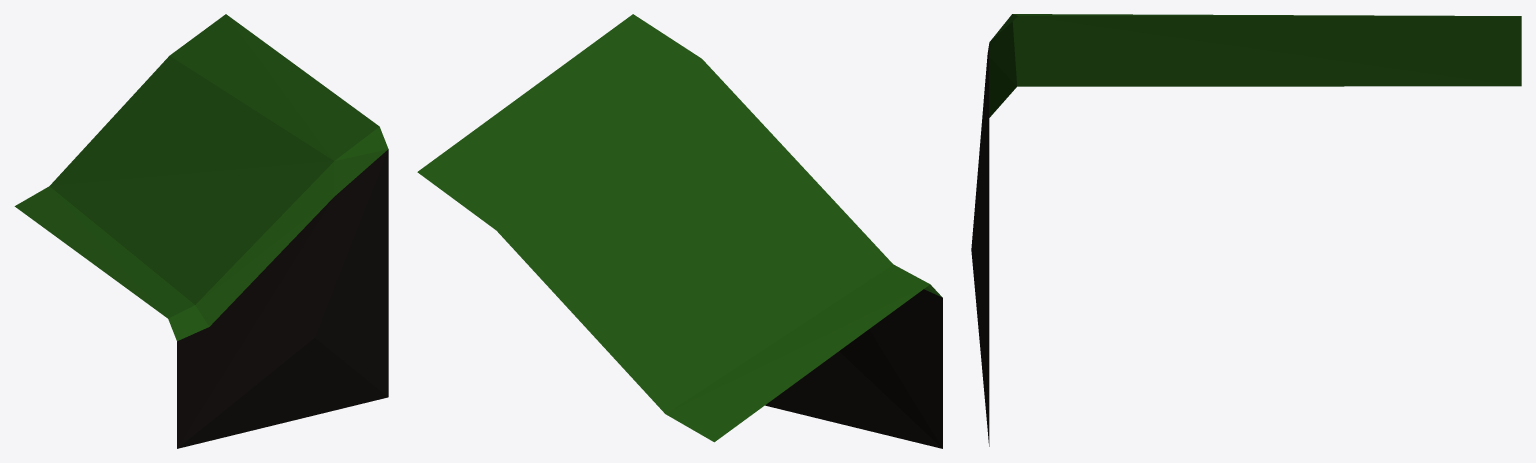
File: 2D_Ground_Top_1up.fbx
3 views of the same model, side by side, from view 1: azimuth 30°, elevation 25°; view 2: azimuth 150°, elevation 25°; view 3: azimuth 270°, elevation 25° (orthographic). The views are drawn at different scales.
Parts seen in each view (by area): view 1: 2D_Ground_Top_1up; view 2: 2D_Ground_Top_1up; view 3: 2D_Ground_Top_1up.
Boxes of the visible parts, x1=… form: 2D_Ground_Top_1up: x1=14, y1=14, x2=388, y2=448; 2D_Ground_Top_1up: x1=417, y1=14, x2=942, y2=448; 2D_Ground_Top_1up: x1=971, y1=14, x2=1521, y2=446.
Size of the model in its own units: 652 by 778 by 897.
